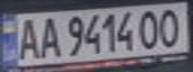1: (100, 10, 118, 53)
4: (115, 8, 139, 52), (81, 11, 103, 55)
9: (63, 12, 84, 56)
A: (12, 15, 42, 61), (33, 13, 60, 60)
O: (154, 5, 187, 48), (136, 7, 163, 50)
